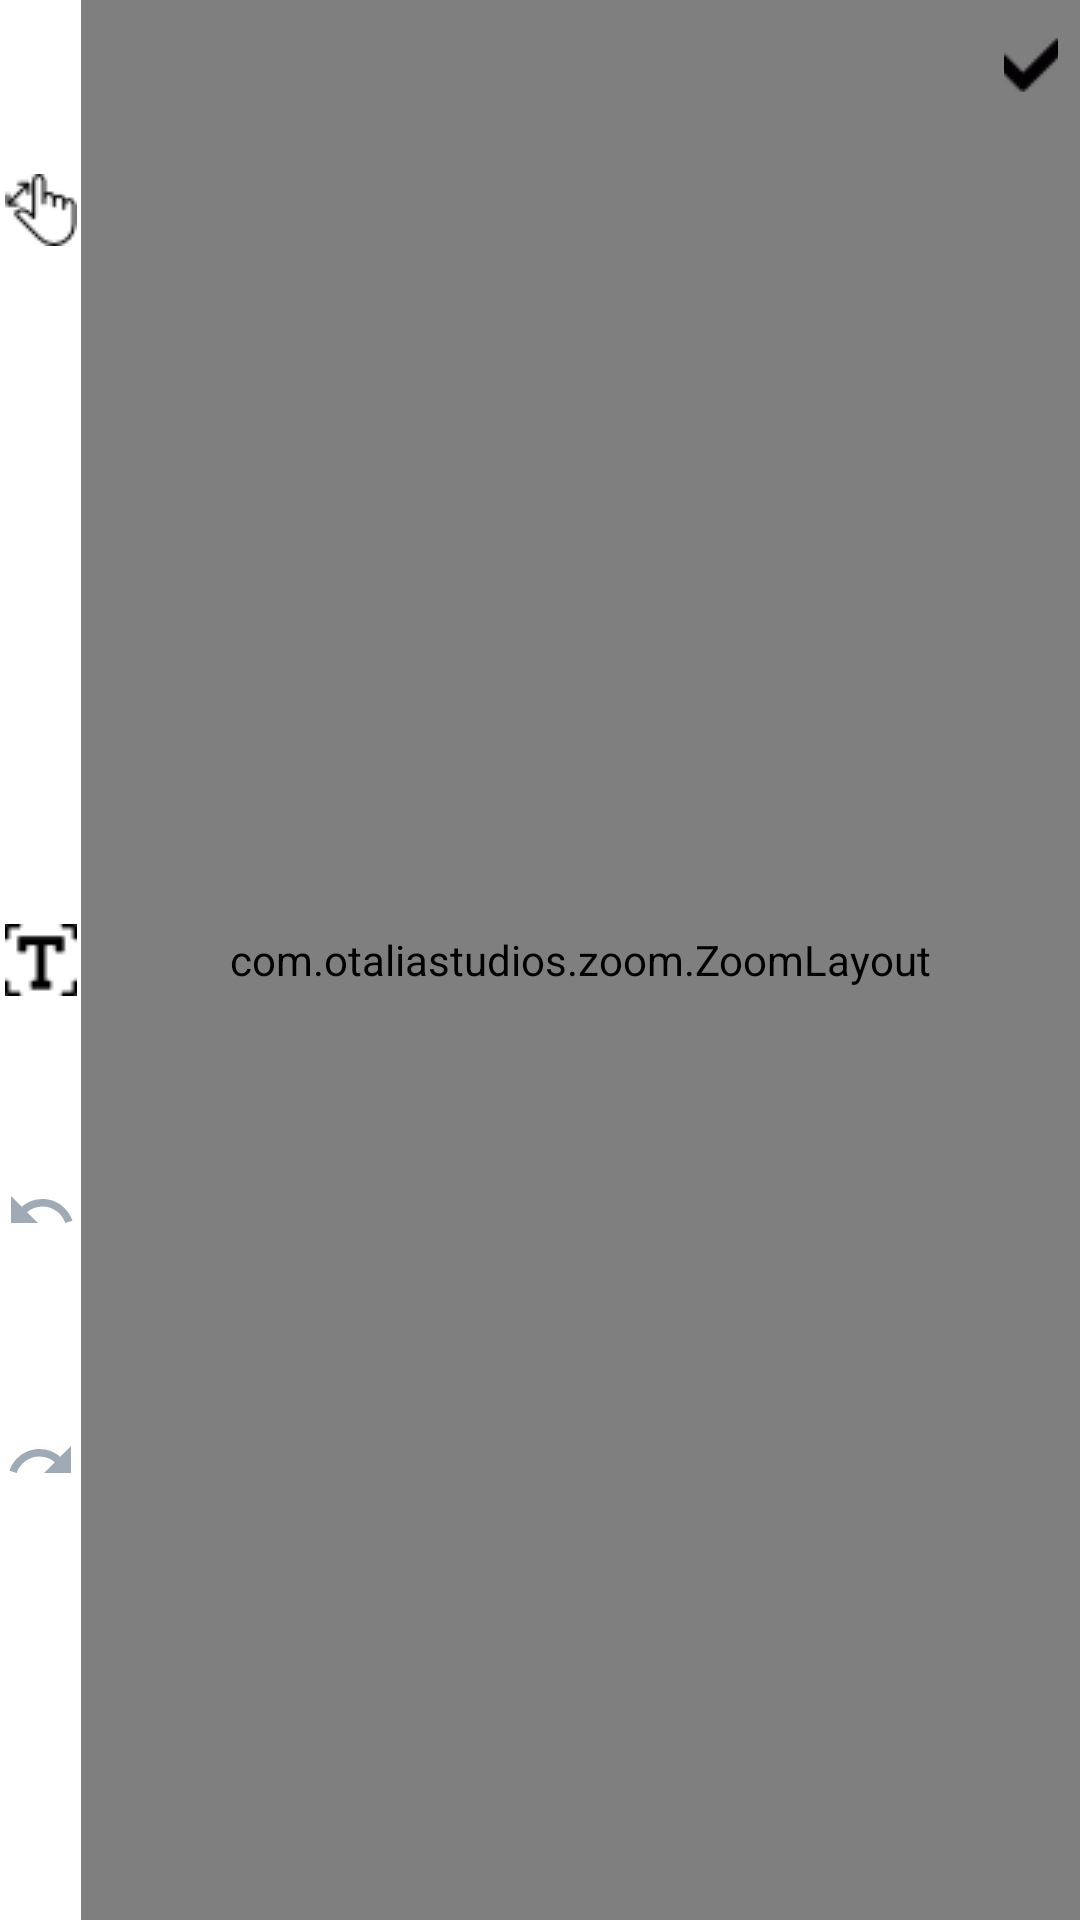

Locate icon controls on the screen. Image size 1080x1920, boxes as (x1, y1, x2, y2).
check: (1004, 38, 1058, 92)
redo: (10, 1446, 71, 1473)
text ins: (5, 924, 77, 996)
undo: (11, 1196, 72, 1223)
